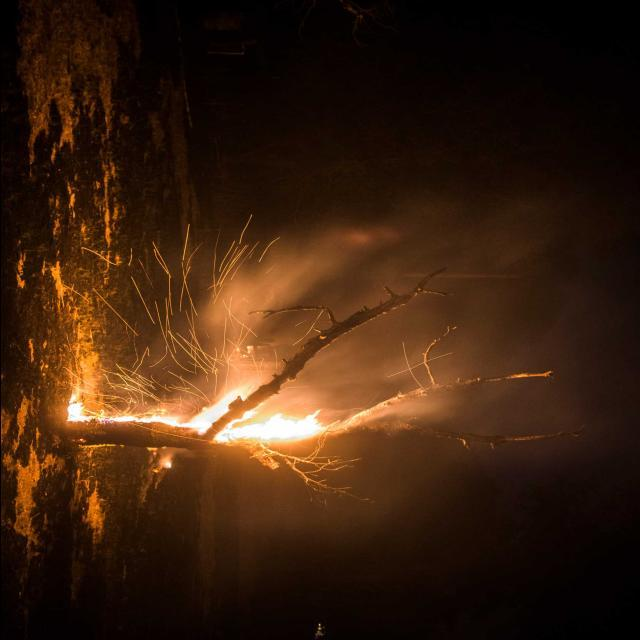Fire: (62, 378, 326, 456)
